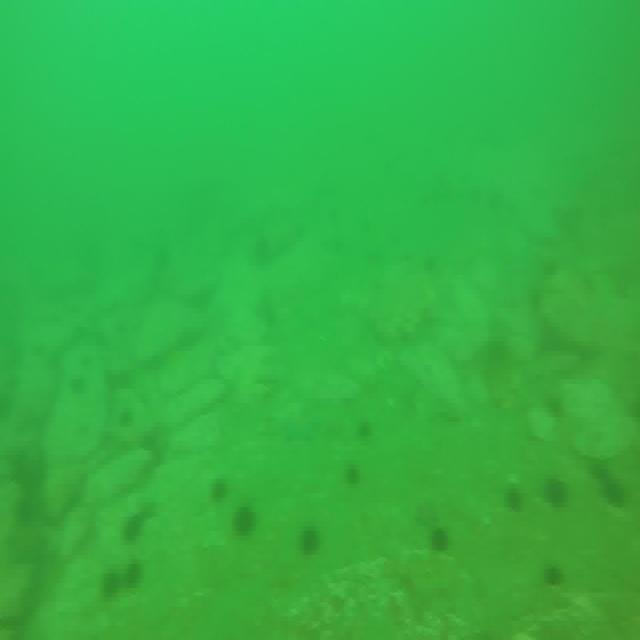echinus: (542, 475, 568, 510), (232, 502, 256, 538), (99, 568, 123, 601), (602, 478, 627, 508), (120, 560, 144, 590), (122, 508, 143, 542), (298, 528, 324, 554), (505, 483, 525, 511), (116, 405, 140, 428), (591, 462, 611, 487), (431, 530, 451, 554), (544, 566, 562, 590), (344, 463, 362, 483), (211, 480, 228, 501), (358, 420, 372, 442)
starfish: (414, 496, 439, 529)
